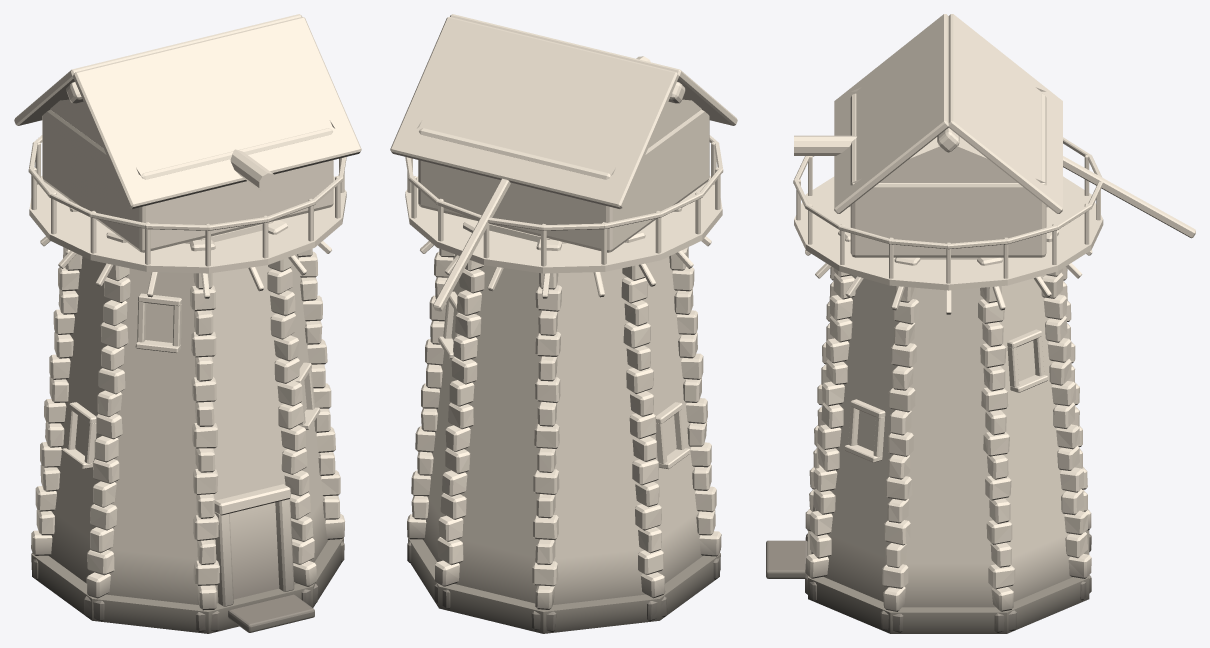
The model's file is SM_VK_Windmill.fbx.
3 views of the same model, side by side, from view 1: azimuth 30°, elevation 25°; view 2: azimuth 150°, elevation 25°; view 3: azimuth 270°, elevation 25° (orthographic). The views are drawn at different scales.
Visible parts, largest first — view 1: SM_VK_Windmill.001; view 2: SM_VK_Windmill.001; view 3: SM_VK_Windmill.001.
Boxes of the visible parts, left/top/right/bottom form: SM_VK_Windmill.001: left=14, top=14, right=361, bottom=633; SM_VK_Windmill.001: left=390, top=14, right=737, bottom=633; SM_VK_Windmill.001: left=766, top=14, right=1195, bottom=633.
Size of the model in its own units: 6.63 by 11.94 by 9.18.
